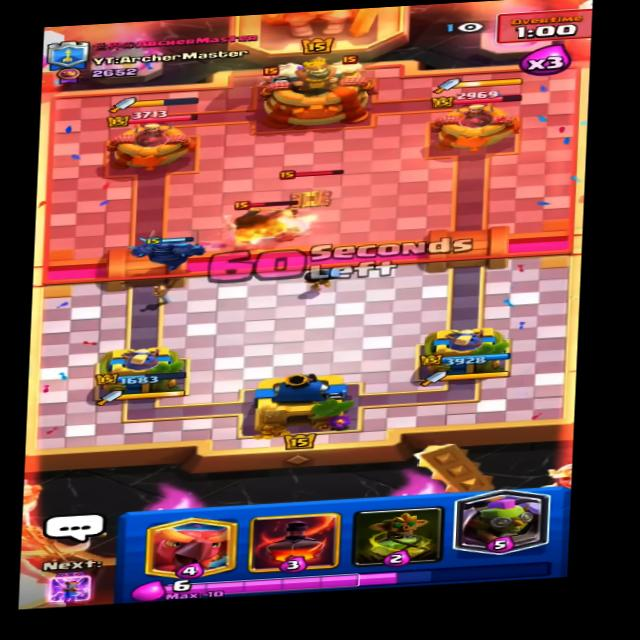archer: (249, 65, 286, 90)
tesla: (278, 167, 349, 212)
x-bow: (218, 195, 307, 250)
